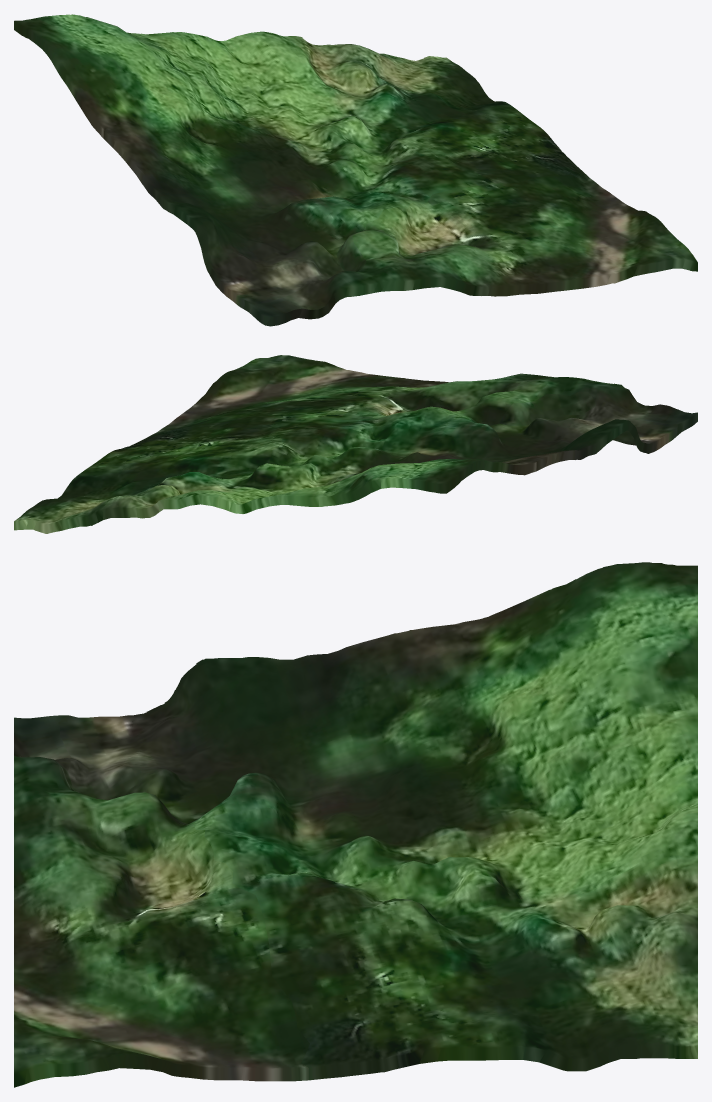
Rendered from z20-167562-405175-h0-yup-uvflip-v3-world.glb.
The picture shows the model from 3 angles, top to bottom: view 1: azimuth 30°, elevation 25°; view 2: azimuth 150°, elevation 25°; view 3: azimuth 270°, elevation 25°; orthographic projection. The views are drawn at different scales.
Size of the model in its own units: 30.16 by 11.64 by 30.32.
Materials: 1 (1 with a texture image).
